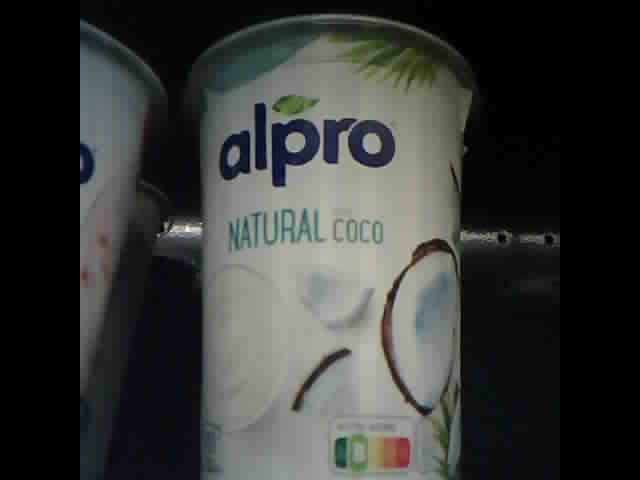alpro: (184, 14, 474, 480), (81, 15, 167, 416)
